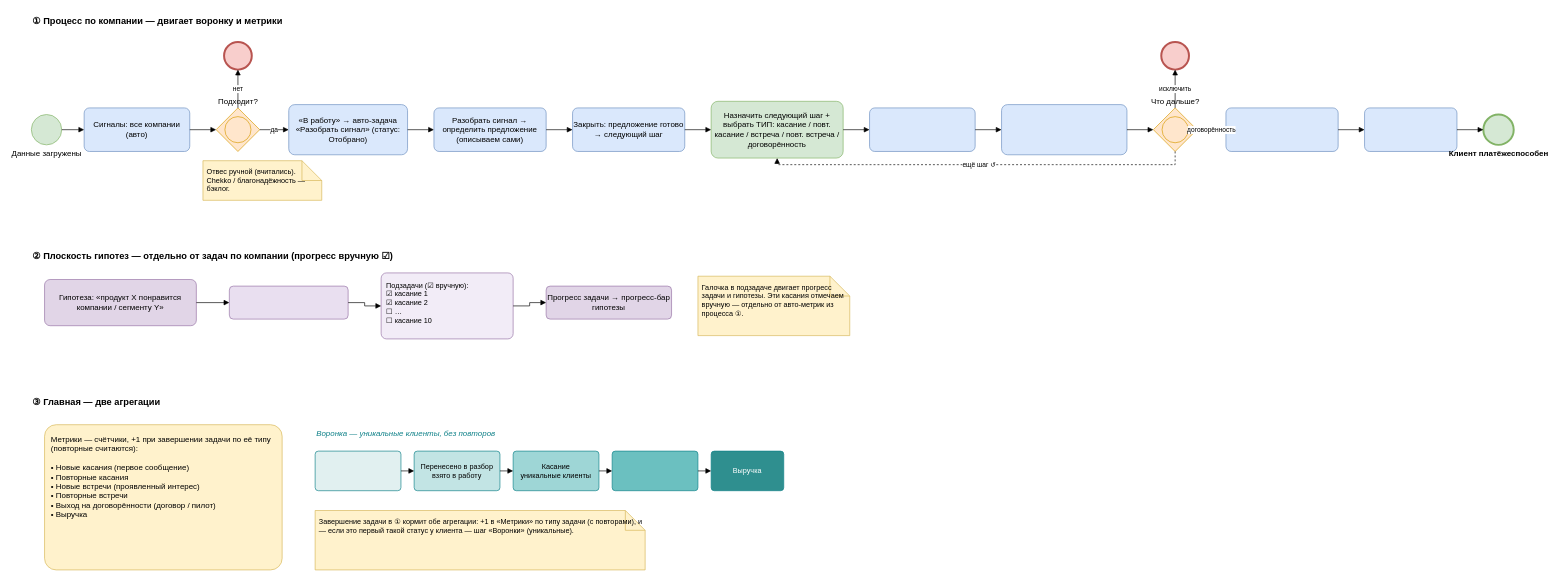
The diagram is 1560 pixels wide and 581 high, and some of its shapes have lost their labels. The shapes that lost their labels are listed below. From the top down, each one's box as (x1, y1, x2, y2) in pixels, then its label:
(223, 41, 252, 70): Отклонён
(1161, 41, 1189, 70): Исключить (на любом шаге)
(869, 107, 975, 151): Выполнить шаг → задача ждёт ответа
(1001, 104, 1127, 155): Завершить задачу → +1 к метрике выбранного типа; двигаем статус компании
(1225, 107, 1338, 151): Выход на договорённость (договор / пилот)
(1364, 107, 1457, 151): Продажа / выручка
(229, 285, 348, 319): Задача: предложить продукт X
(314, 450, 401, 491): Выгружено все из таблицы
(611, 450, 698, 491): Встреча уникальные клиенты
